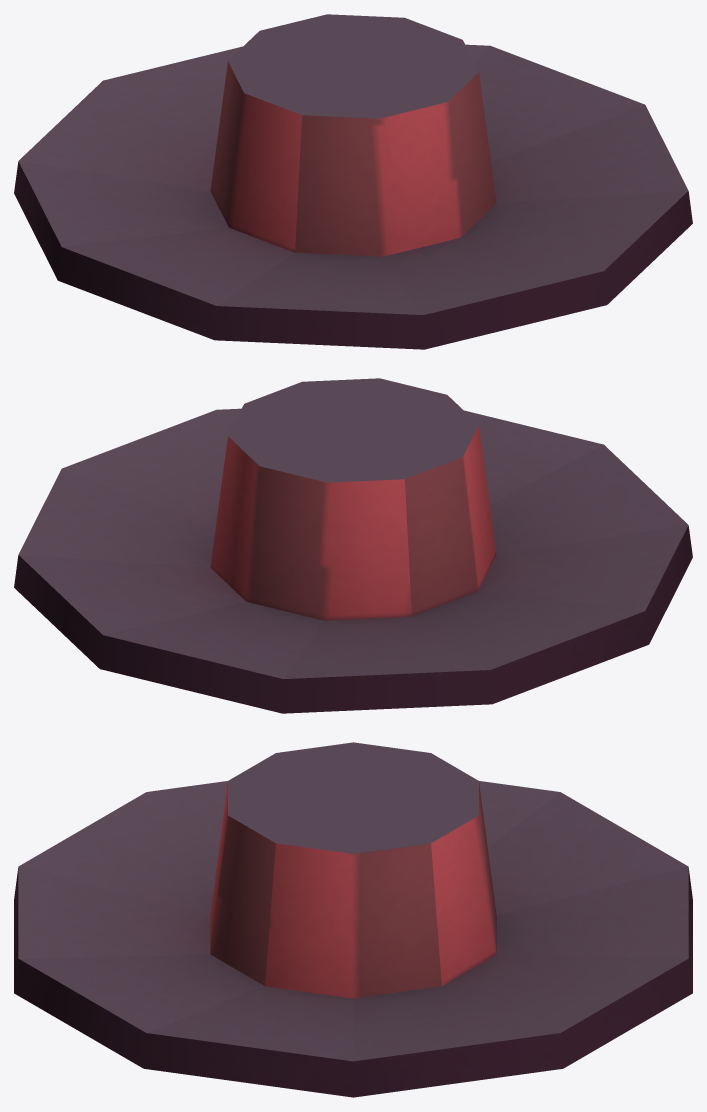
The model's file is Hat1.FBX.
The picture shows the model from 3 angles, top to bottom: view 1: azimuth 30°, elevation 25°; view 2: azimuth 150°, elevation 25°; view 3: azimuth 270°, elevation 25°; orthographic projection. The views are drawn at different scales.
Parts seen in each view (by area): view 1: Hat1; view 2: Hat1; view 3: Hat1.
Part boxes in pixels (x1,y1,x2,y2): Hat1: [14, 14, 692, 349]; Hat1: [14, 378, 692, 713]; Hat1: [14, 742, 692, 1097].
Bounding box in the file's own units: 583 × 554 × 134.
1 material, 1 textured.
